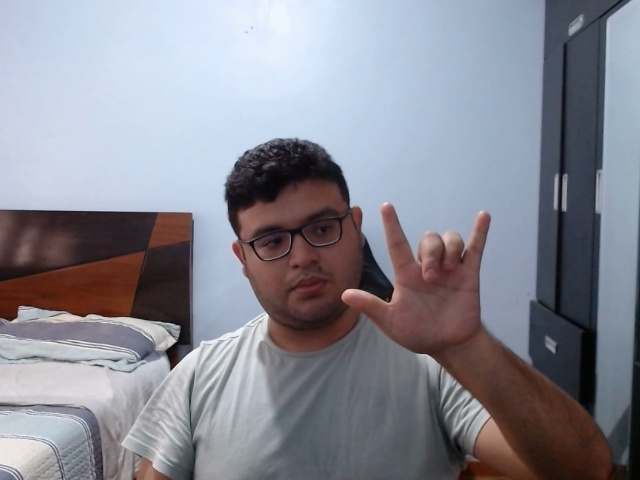I love you: (342, 199, 501, 364)
